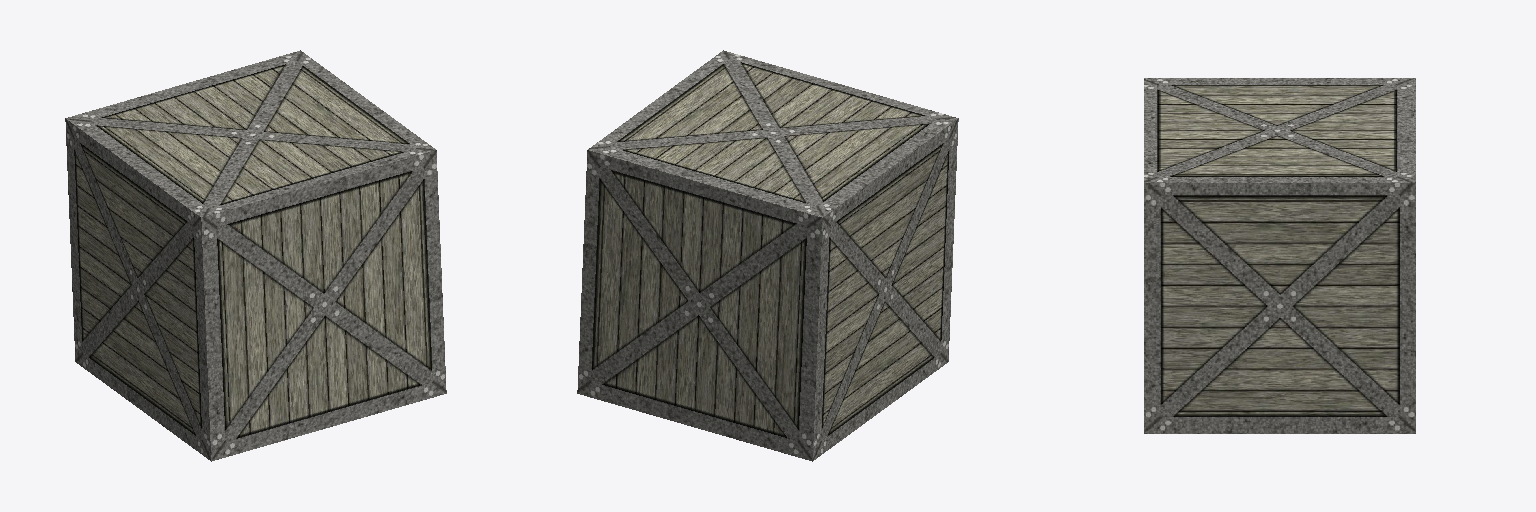
The picture shows the model from 3 angles: view 1: azimuth 30°, elevation 25°; view 2: azimuth 150°, elevation 25°; view 3: azimuth 270°, elevation 25°; orthographic projection.
Parts seen in each view (by area): view 1: Cube_Cube.001; view 2: Cube_Cube.001; view 3: Cube_Cube.001.
Boxes of the visible parts, x1,y1,x2,y2 form: Cube_Cube.001: [65, 50, 446, 461]; Cube_Cube.001: [577, 50, 958, 461]; Cube_Cube.001: [1144, 78, 1415, 433].
Bounding box in the file's own units: 2.08 × 2.08 × 2.
1 materials, 1 textured.